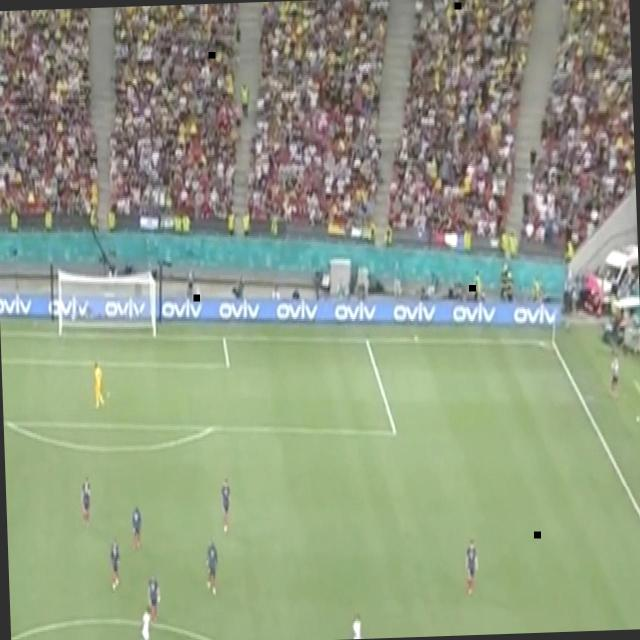ball: (633, 412, 640, 425)
player-white: (204, 534, 221, 597), (464, 537, 480, 597), (108, 535, 123, 593), (146, 572, 162, 624), (219, 475, 233, 534), (79, 474, 93, 530), (134, 603, 155, 640), (92, 359, 106, 411), (130, 502, 144, 553), (345, 610, 365, 640)
